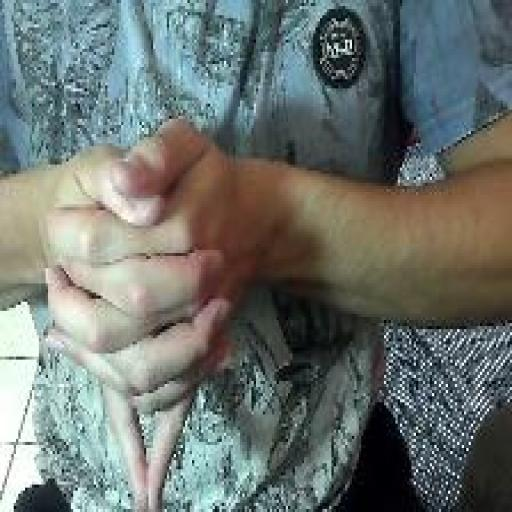Tatsu -dragon-: (42, 109, 236, 512)
